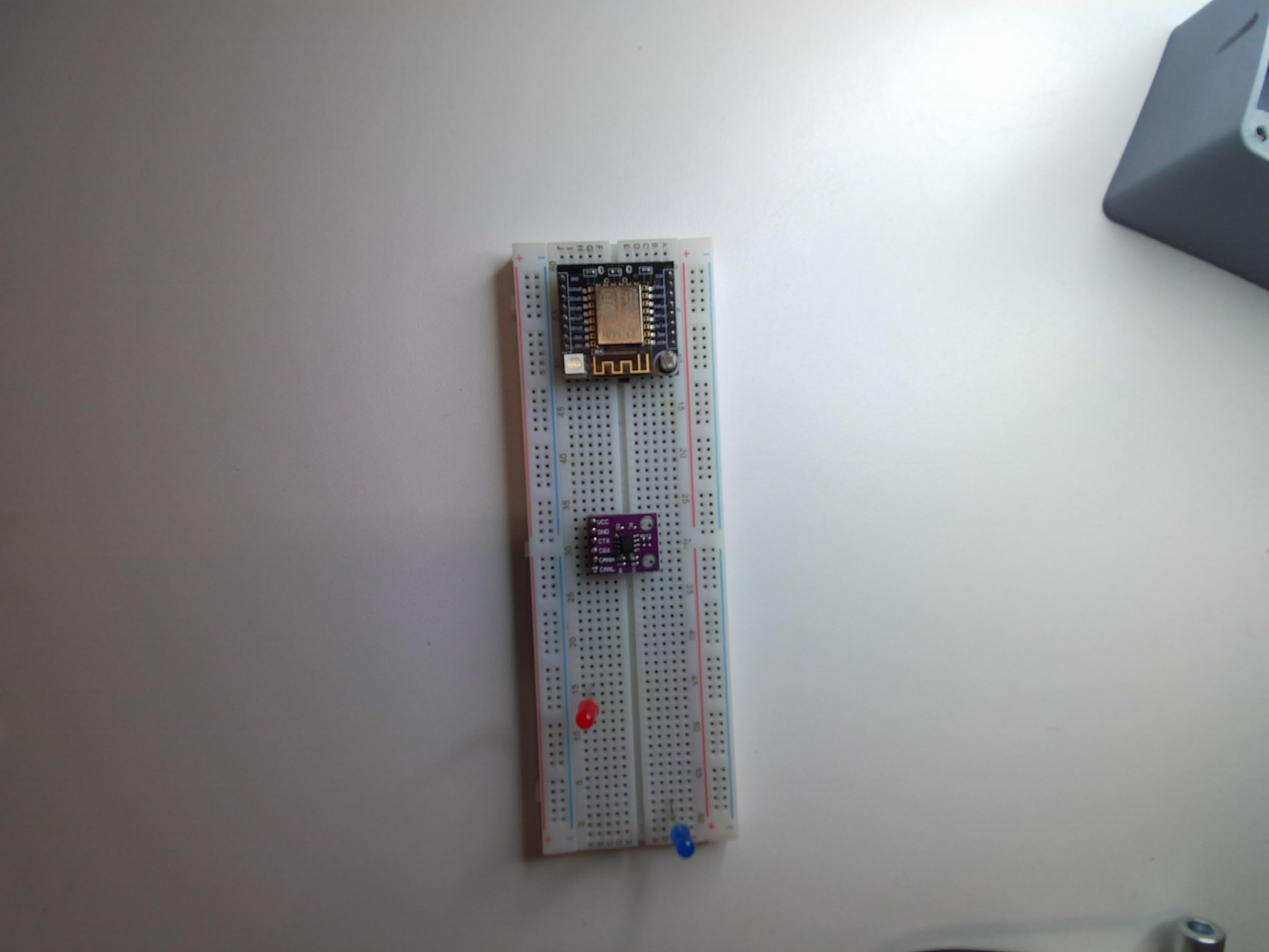base: (496, 233, 737, 866)
blue-led: (665, 818, 702, 859)
esp: (553, 256, 681, 382)
purple-board: (581, 512, 664, 576)
red-led: (572, 694, 603, 735)
